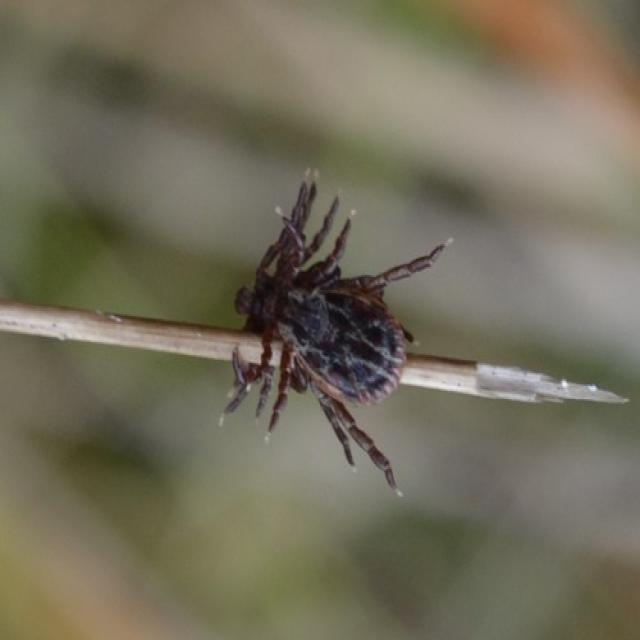Dermacentor Reticulatus-M: (224, 169, 445, 489)
